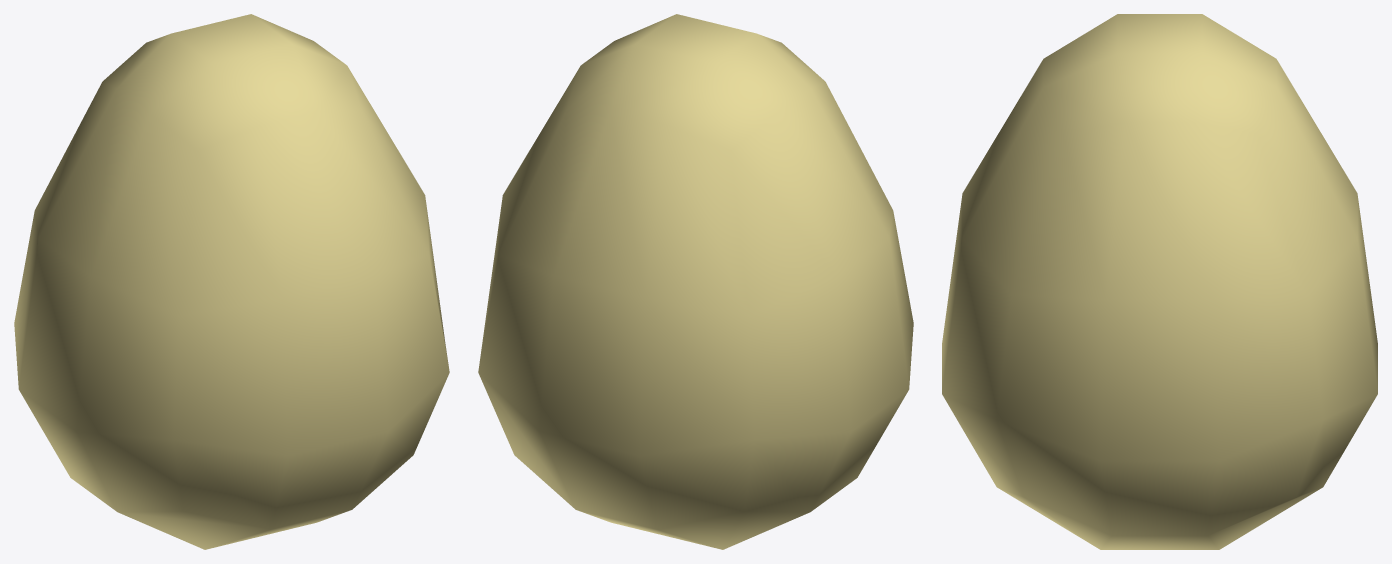
Rendered from egg.glb.
The picture shows the model from 3 angles, left to right: view 1: azimuth 30°, elevation 25°; view 2: azimuth 150°, elevation 25°; view 3: azimuth 270°, elevation 25°; orthographic projection. The views are drawn at different scales.
Visible parts, largest first — view 1: egg; view 2: egg; view 3: egg.
Part boxes in pixels (x1,y1,x2,y2): egg: (14, 14, 449, 549); egg: (478, 14, 913, 549); egg: (942, 14, 1377, 549).
Bounding box in the file's own units: 0.1933 × 0.2387 × 0.1933.
